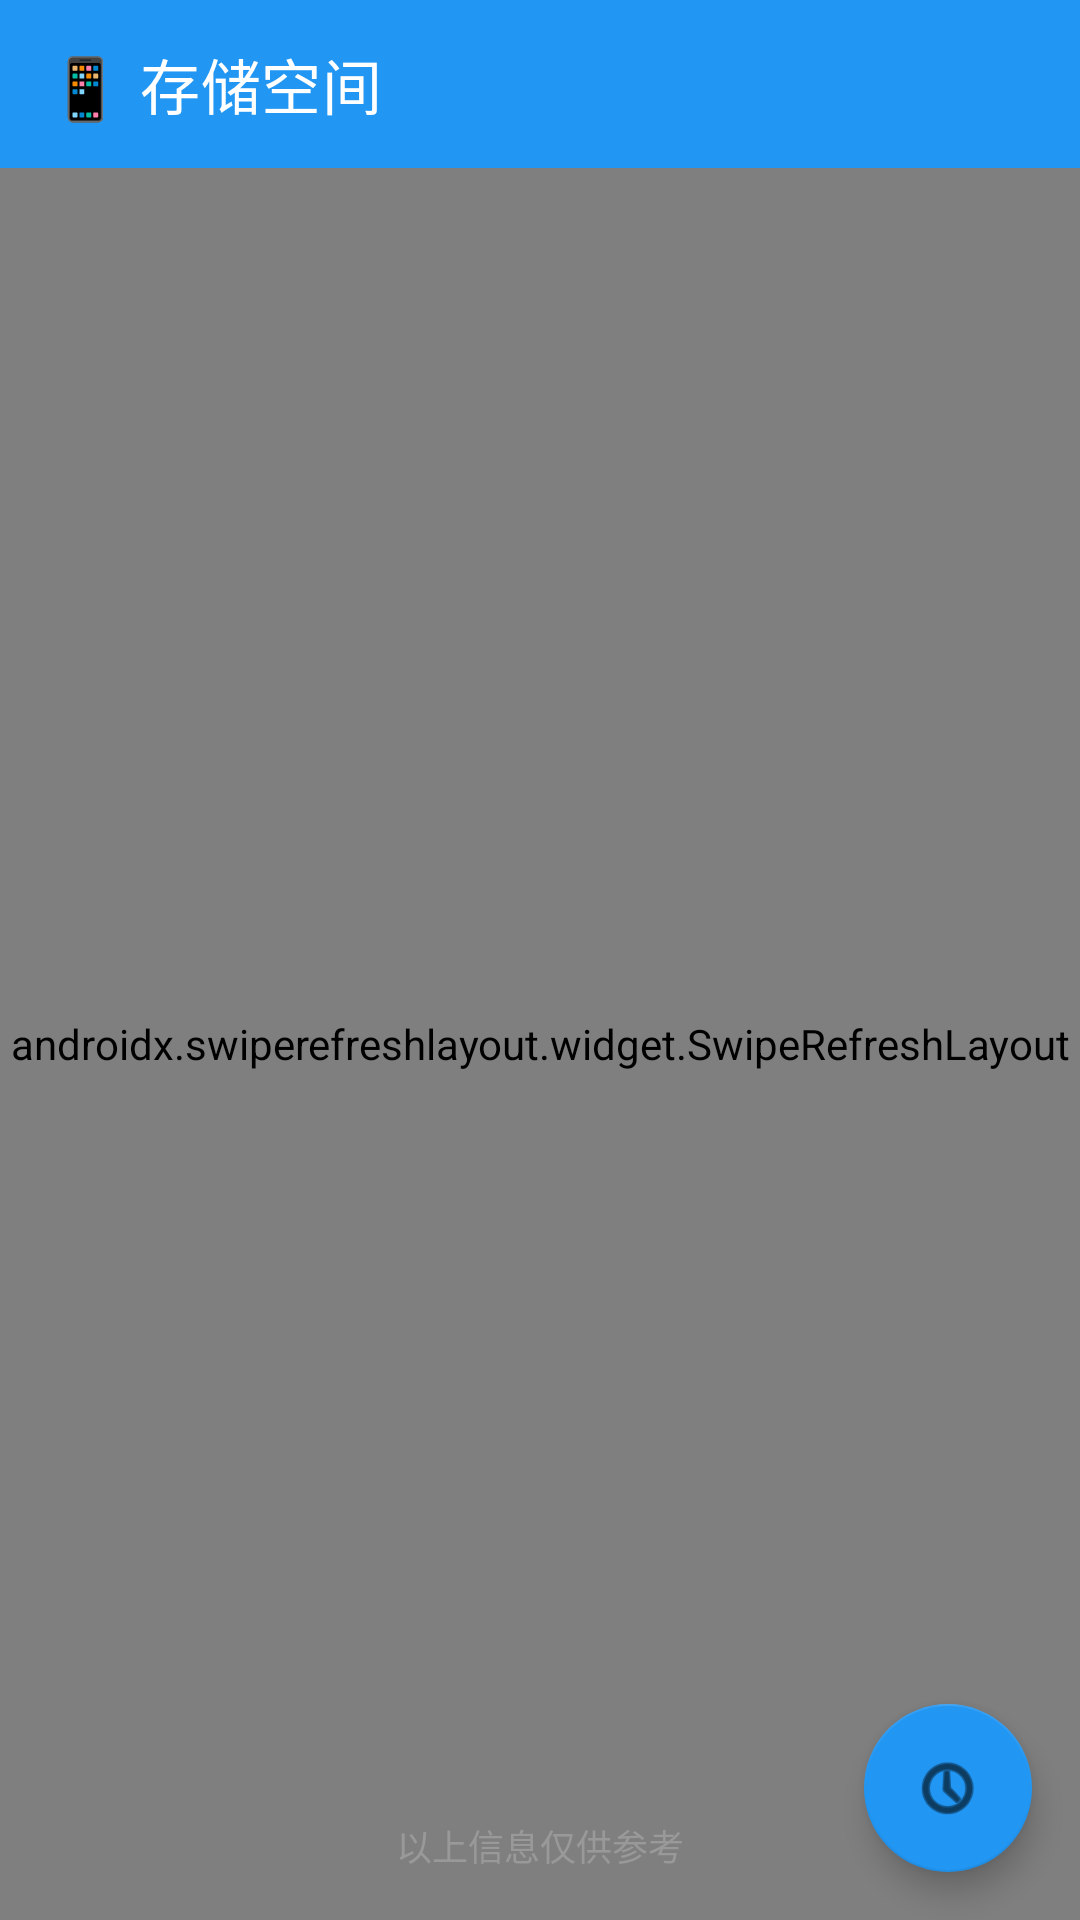

Where icons sit on this 1080 × 1920 app screen, as (x1, y1, x2, y2):
recent history: (864, 1704, 1032, 1872)
